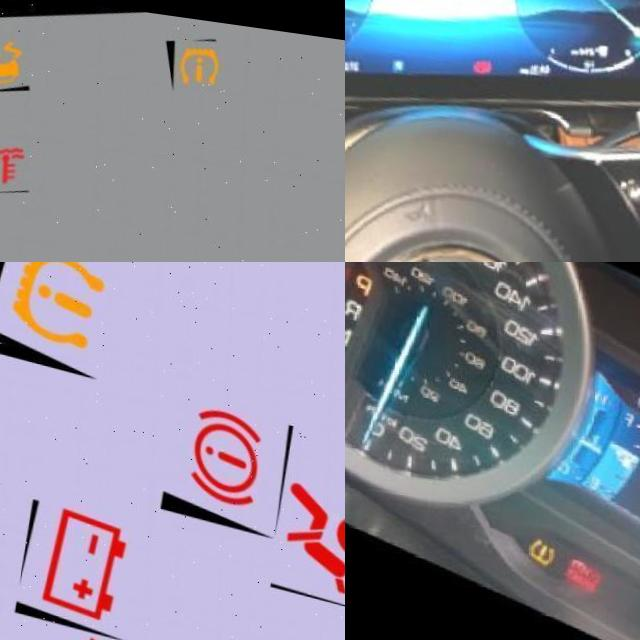Low fuel level: (608, 28, 622, 42)
